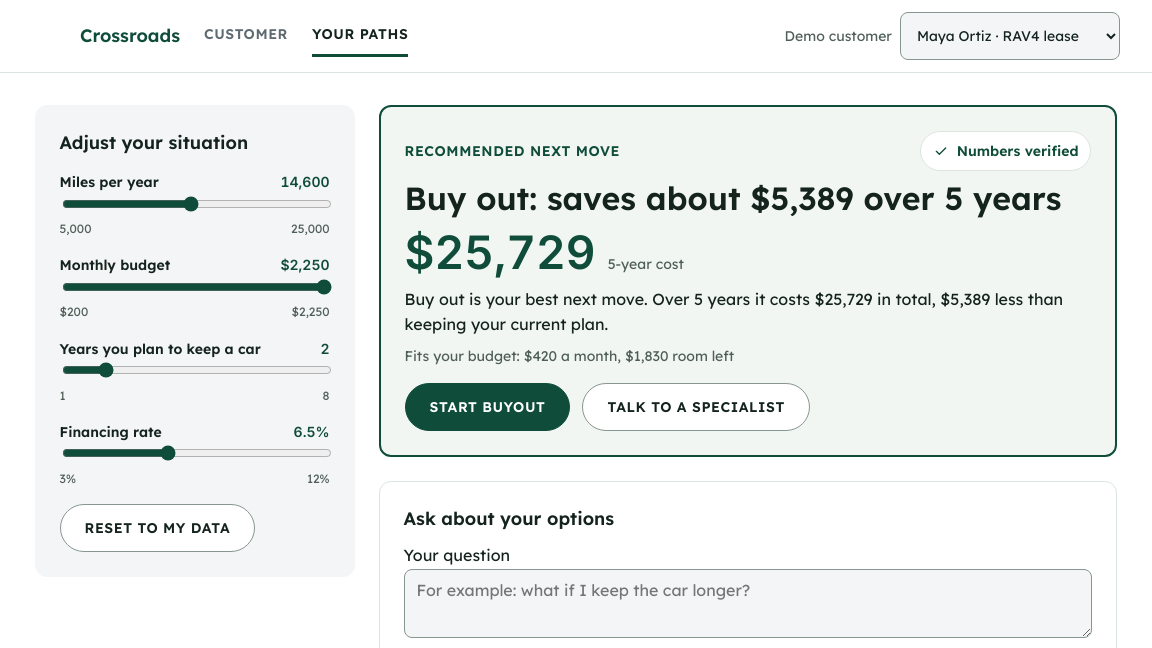
Your paths sliders › keeps the previous results and says why when the server rejects an input
Set the slider labelled "Miles per year" to "20000". click: (260, 204)
box: [62, 196, 332, 212]
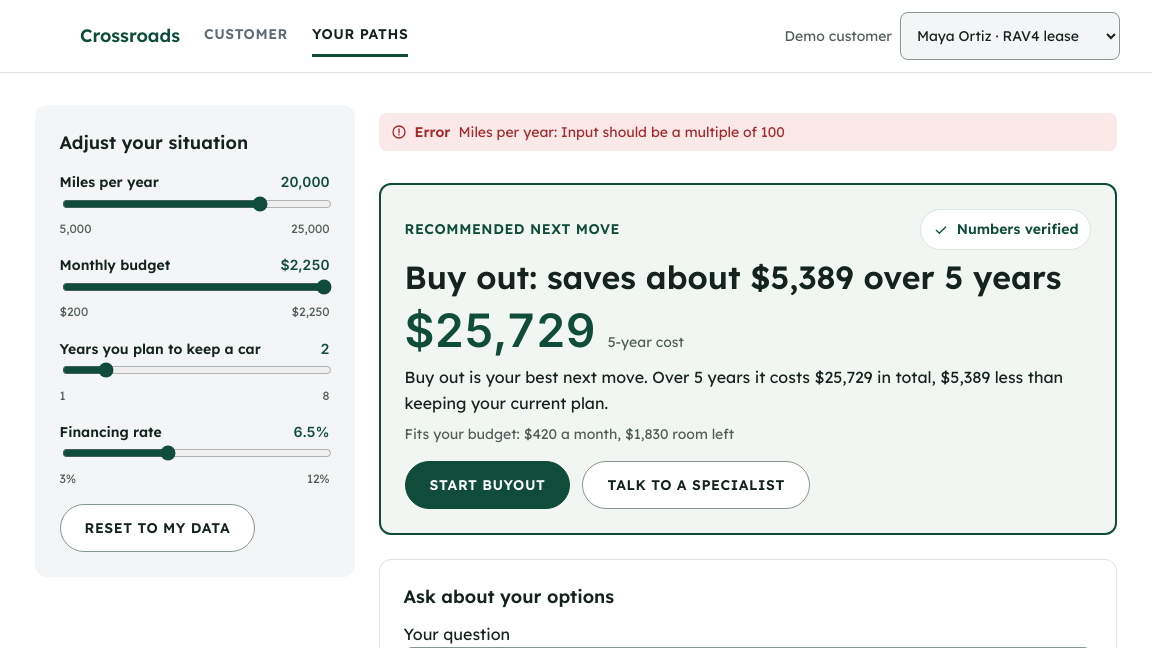
Expected: the heading "Buy out: saves about $5,389 over 5 years" is shown, [404, 258, 1091, 296]
Expected: the message shows "Miles per year: Input should be a multiple of 100", [458, 123, 785, 141]
